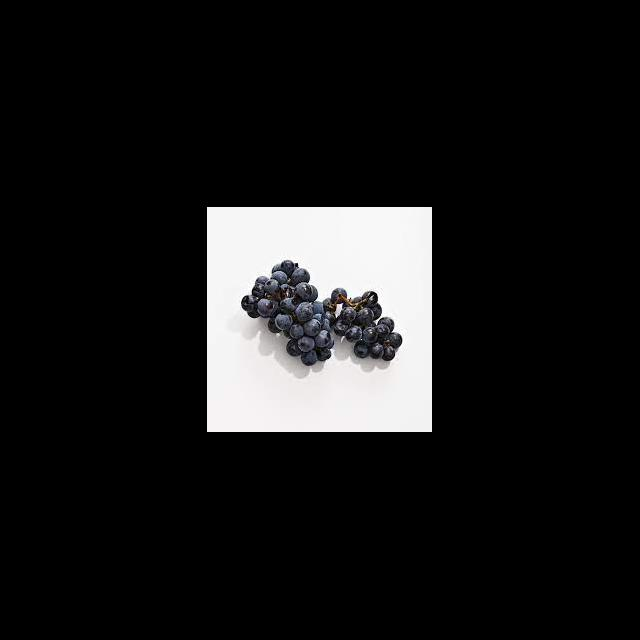grape: (240, 260, 402, 366)
